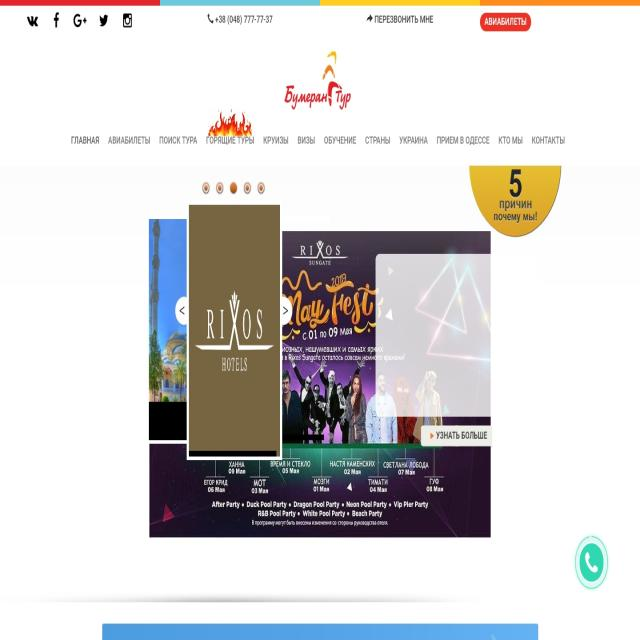button: (574, 532, 608, 591), (421, 423, 491, 447), (200, 129, 258, 154), (431, 130, 493, 151), (106, 130, 154, 154), (155, 129, 200, 153), (480, 13, 531, 32), (319, 129, 360, 150), (258, 128, 292, 153), (526, 130, 568, 150), (394, 129, 431, 151), (20, 5, 44, 37), (114, 6, 141, 34), (493, 129, 526, 150), (67, 7, 92, 34), (361, 130, 394, 150), (44, 8, 67, 35), (93, 7, 115, 34), (69, 132, 101, 150), (293, 128, 318, 151)
image: (149, 220, 491, 536), (190, 204, 280, 462), (469, 165, 562, 237), (277, 48, 361, 112)
text: (208, 497, 432, 530), (203, 302, 271, 344), (202, 7, 276, 28), (492, 197, 540, 225), (364, 13, 438, 27), (215, 351, 253, 378)
